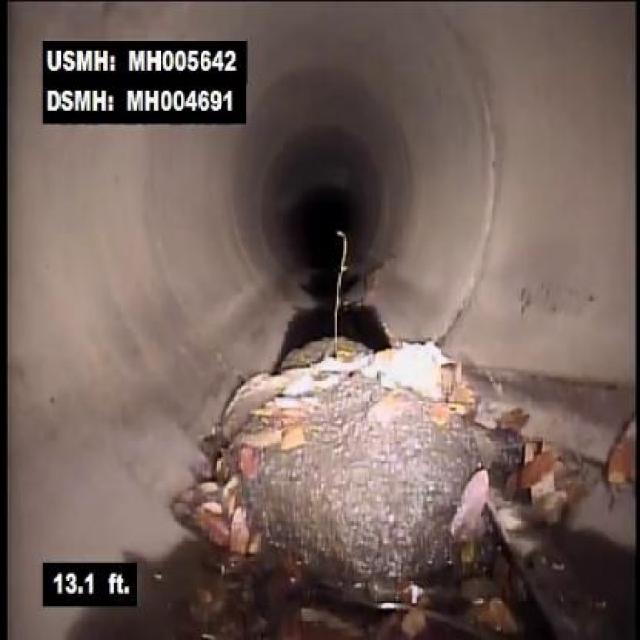Obstacle: (148, 302, 554, 609)
